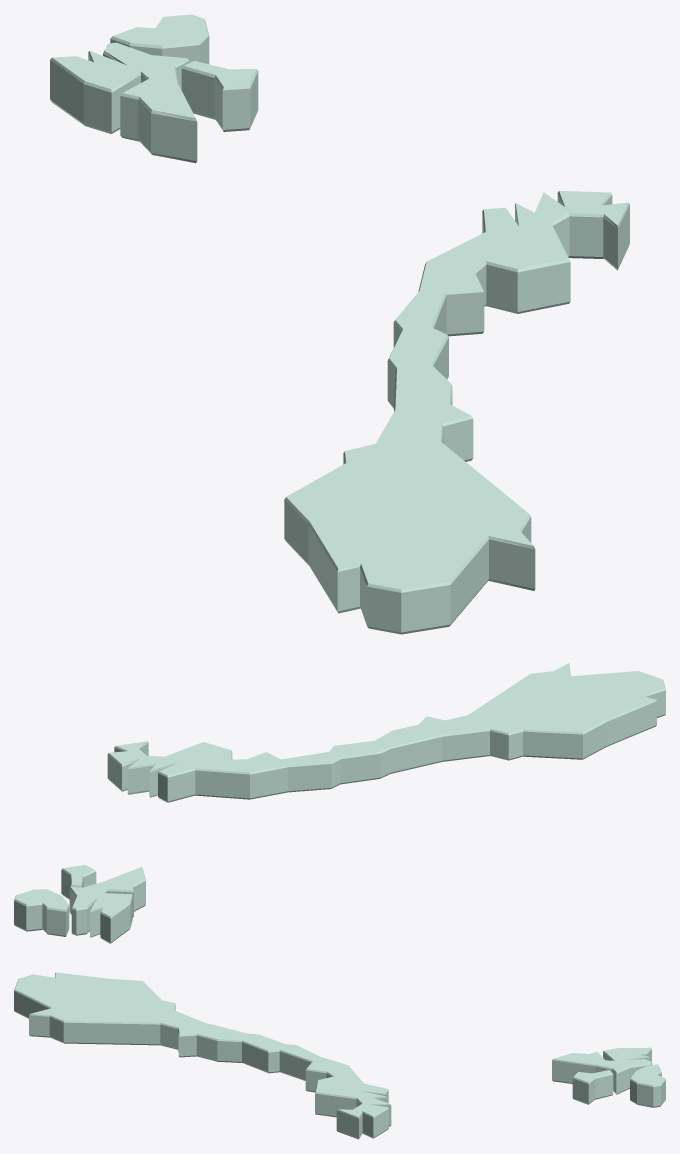
Rendered from NOR.glb.
3 renders of one model, top to bottom at view 1: azimuth 30°, elevation 25°; view 2: azimuth 150°, elevation 25°; view 3: azimuth 270°, elevation 25°, orthographic. The views are drawn at different scales.
Size of the model in its own units: 0.9441 by 0.068 by 1.79.
